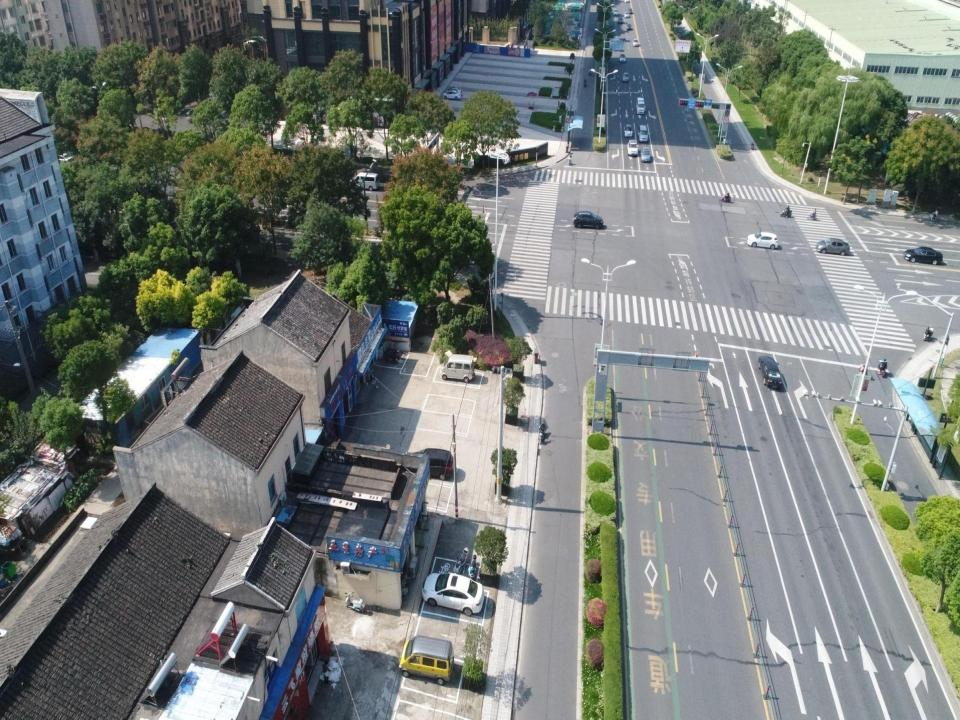car: (421, 571, 483, 619), (403, 448, 454, 479), (902, 243, 944, 267), (758, 355, 783, 389), (815, 237, 849, 257), (573, 210, 604, 228), (745, 233, 778, 249), (627, 139, 638, 157), (637, 124, 648, 142), (442, 90, 460, 101), (641, 146, 651, 164), (623, 124, 633, 138), (448, 86, 462, 94), (622, 72, 630, 82), (619, 53, 626, 62), (633, 37, 639, 47), (623, 12, 630, 20), (617, 16, 623, 23), (627, 23, 631, 29), (614, 8, 618, 14), (628, 7, 632, 13)
van: (397, 634, 455, 686), (439, 354, 475, 385), (636, 96, 645, 113)
